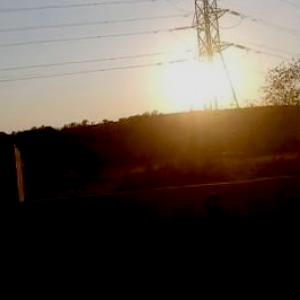follow: (192, 185, 255, 299)
